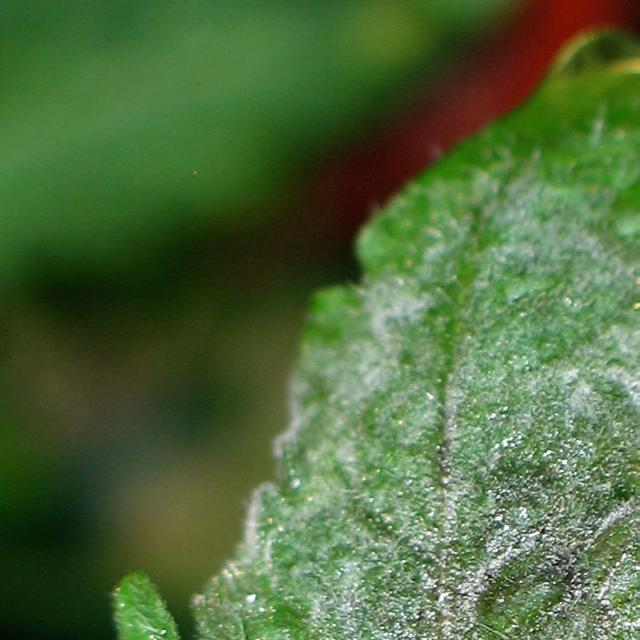Tomato leaf late blight: (72, 14, 640, 640)
